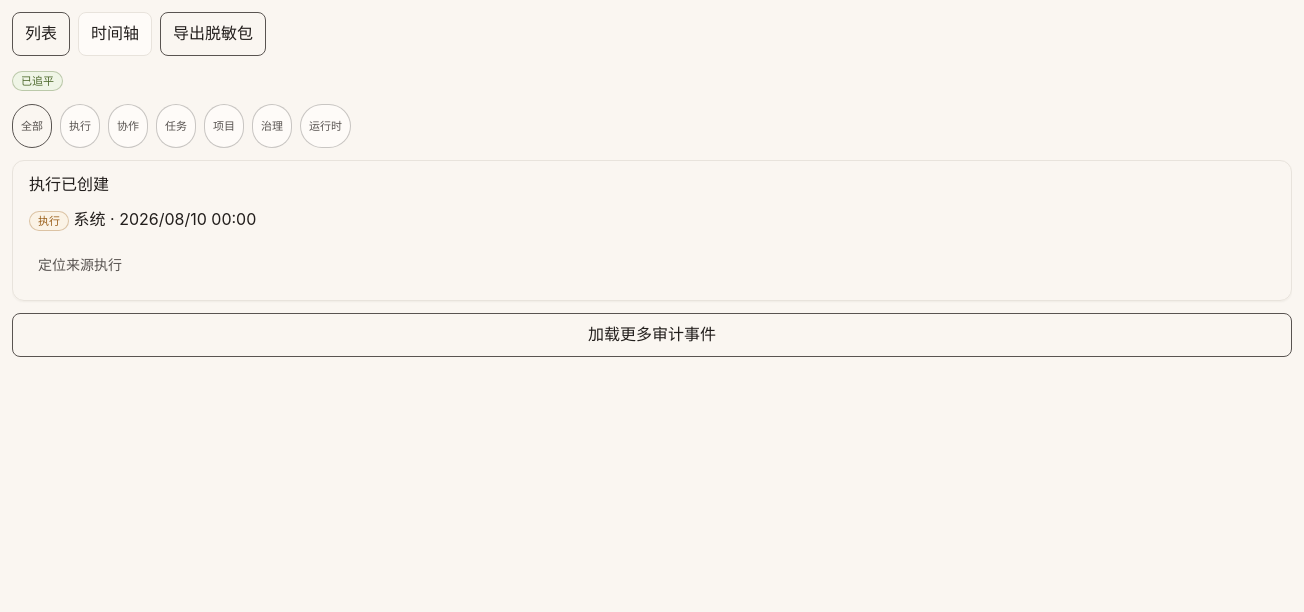
Audit panel › shows the filtered empty state and re-filters events appended by load more
Click the button "运行时" at (326, 126), box top-left (300, 104), bottom-right (351, 148)
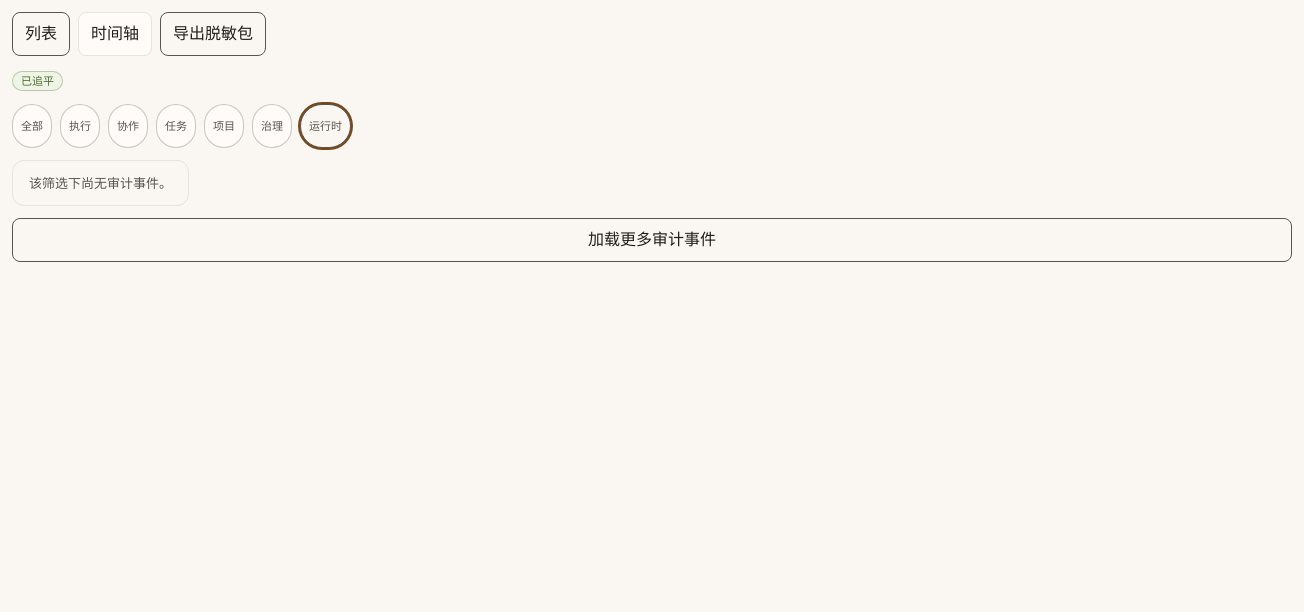
Expected: the text "该筛选下尚无审计事件。" is shown, top-left (12, 160), bottom-right (189, 206)
Click the button "加载更多审计事件" at (652, 240), box top-left (12, 218), bottom-right (1292, 262)
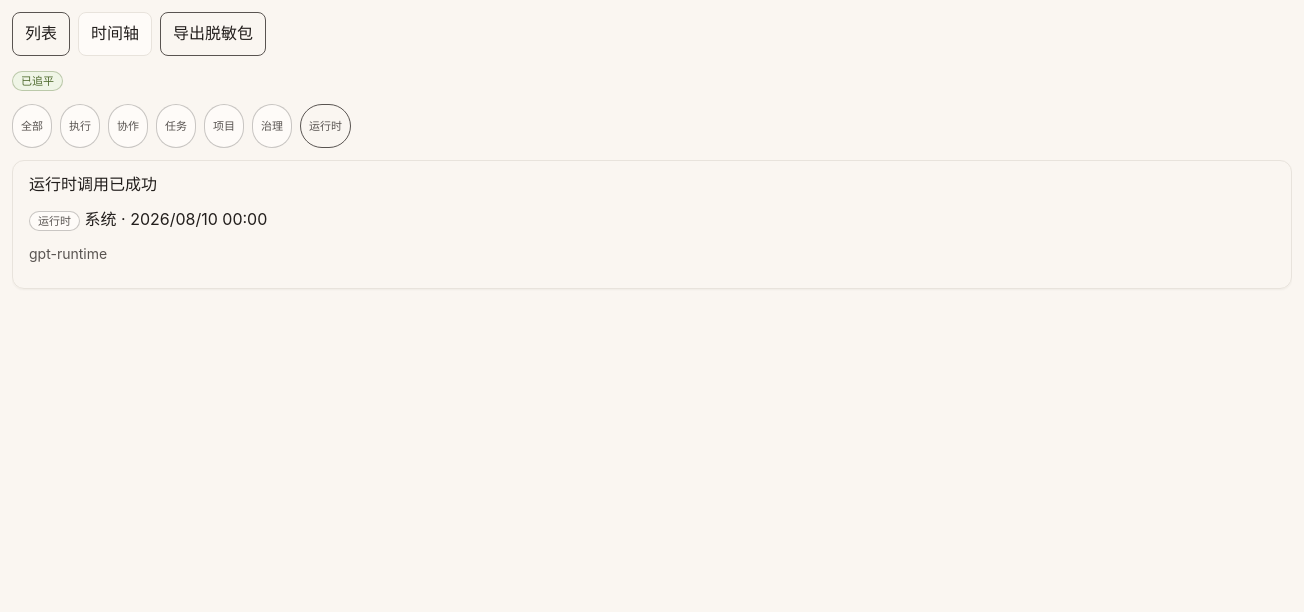
Expected: the heading "Owner 消息" is not shown
Expected: the number of list items is 1, top-left (12, 160), bottom-right (1292, 288)
Expected: the heading "运行时调用已成功" is shown, top-left (29, 174), bottom-right (157, 194)
Click the button "全部" at (32, 126), box top-left (12, 104), bottom-right (52, 148)
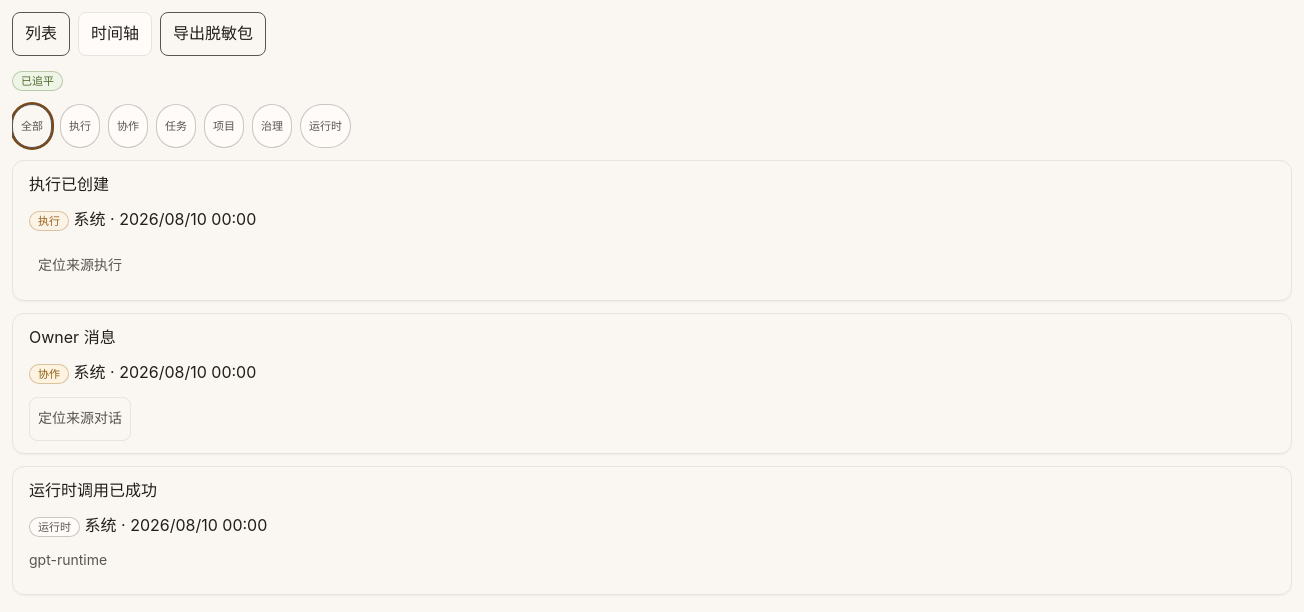
Expected: the number of list items is 3, top-left (12, 160), bottom-right (1292, 300); top-left (12, 312), bottom-right (1292, 454); top-left (12, 466), bottom-right (1292, 595)
